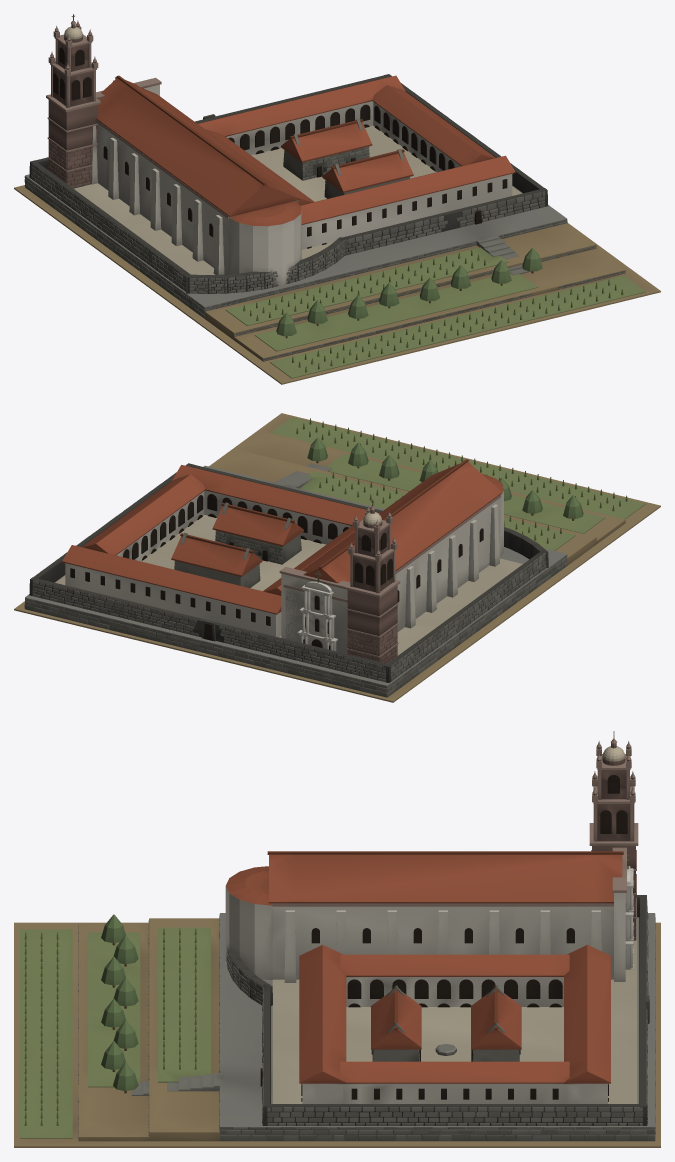
File: santo-domingo.glb
3 views of the same model, one above another, from view 1: azimuth 30°, elevation 25°; view 2: azimuth 150°, elevation 25°; view 3: azimuth 270°, elevation 25° (orthographic). The views are drawn at different scales.
Parts seen in each view (by area): view 1: p0_platform, p2_church, p1_inca walls, p3_tower; view 2: p2_church, p1_inca walls, p0_platform, p3_tower; view 3: p2_church, p0_platform, p1_inca walls, p3_tower.
Boxes of the visible parts, x1=… form: p0_platform: x1=14, y1=174, x2=660, y2=384; p2_church: x1=91, y1=75, x2=515, y2=286; p1_inca walls: x1=29, y1=74, x2=623, y2=372; p3_tower: x1=46, y1=14, x2=100, y2=188; p2_church: x1=62, y1=459, x2=503, y2=653; p1_inca walls: x1=29, y1=418, x2=627, y2=682; p0_platform: x1=14, y1=413, x2=660, y2=702; p3_tower: x1=345, y1=499, x2=400, y2=663; p2_church: x1=225, y1=847, x2=633, y2=1083; p0_platform: x1=14, y1=913, x2=660, y2=1147; p1_inca walls: x1=24, y1=895, x2=649, y2=1125; p3_tower: x1=589, y1=731, x2=638, y2=940.
Size of the model in its own units: 90 by 40.61 by 110.
